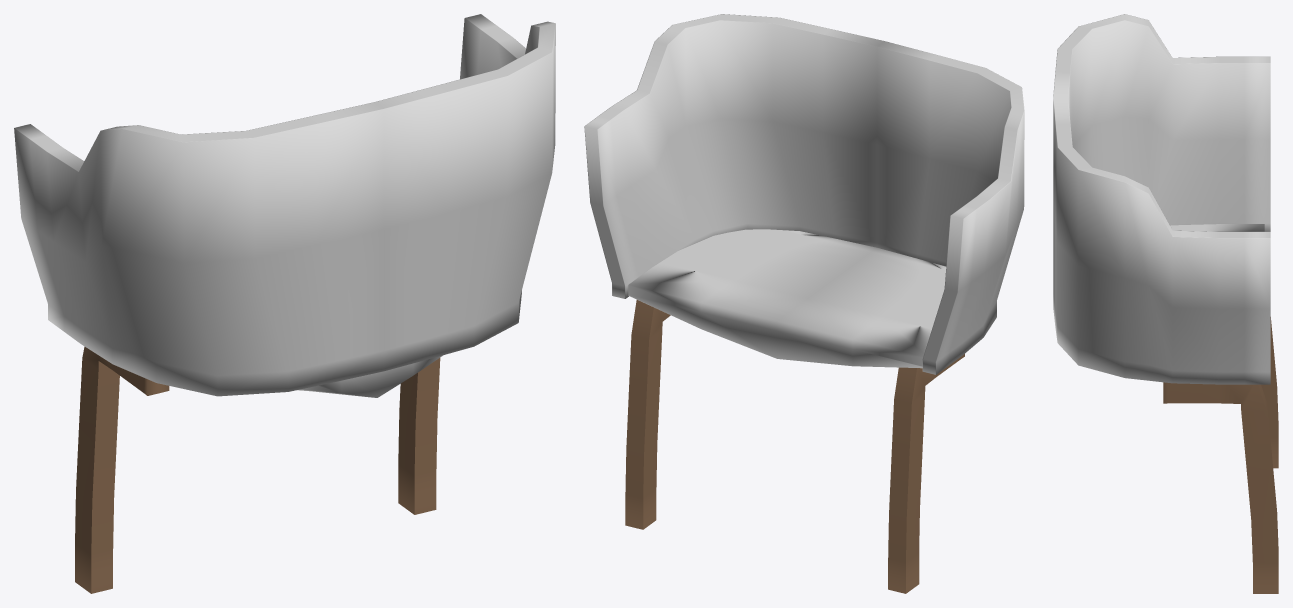
File: silla_moderna.glb
The picture shows the model from 3 angles, left to right: view 1: azimuth 30°, elevation 25°; view 2: azimuth 150°, elevation 25°; view 3: azimuth 270°, elevation 25°; orthographic projection. The views are drawn at different scales.
Visible parts, largest first — view 1: Reposador, Pata1, Pata2, Asiento; view 2: Reposador, Asiento, Pata1, Pata2; view 3: Reposador, Pata2, Pata1, Asiento.
Boxes of the visible parts, bbox=[...] form: Reposador: bbox=[14, 14, 555, 396]; Pata1: bbox=[75, 346, 169, 593]; Pata2: bbox=[398, 358, 440, 514]; Asiento: bbox=[297, 355, 442, 397]; Reposador: bbox=[584, 14, 1024, 374]; Asiento: bbox=[628, 229, 946, 368]; Pata1: bbox=[888, 354, 964, 593]; Pata2: bbox=[625, 300, 670, 529]; Reposador: bbox=[1053, 14, 1270, 384]; Pata2: bbox=[1163, 382, 1278, 593]; Pata1: bbox=[1261, 317, 1278, 468]; Asiento: bbox=[1170, 224, 1264, 231].
Size of what is drawn, in the model's own units: 4.23 by 4.64 by 2.22.
